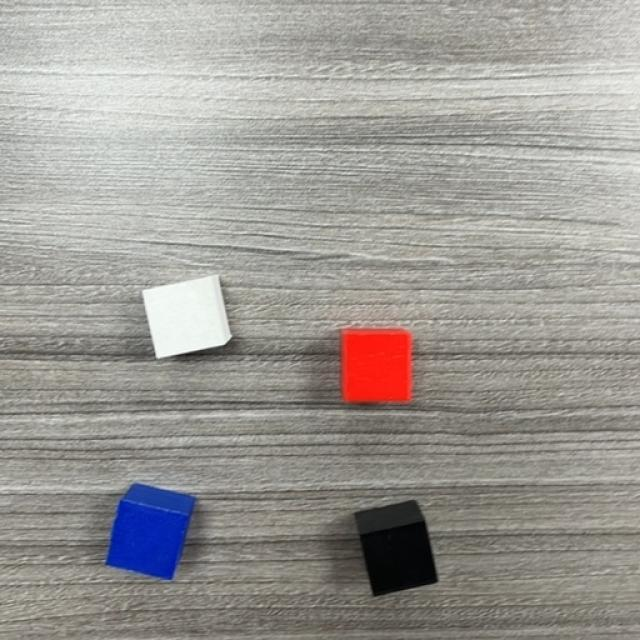Azul: (105, 499, 191, 583)
Blanco: (143, 277, 228, 360)
Negro: (356, 516, 439, 600)
Rojo: (341, 336, 414, 402)
